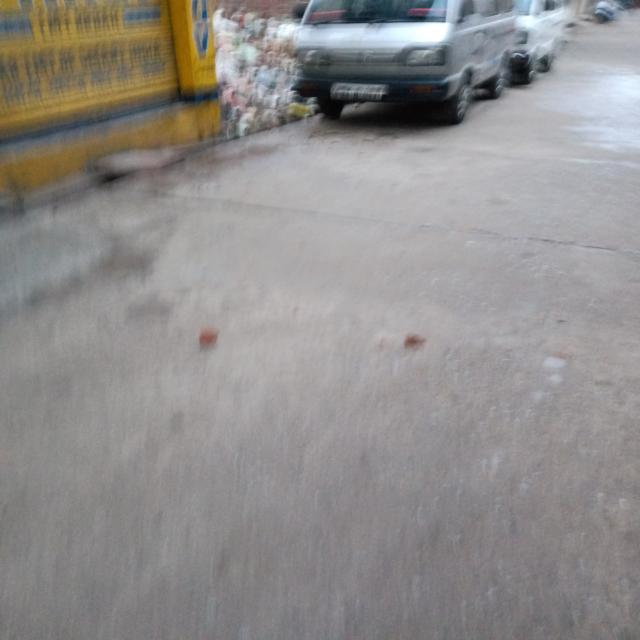Car: (293, 0, 572, 124)
